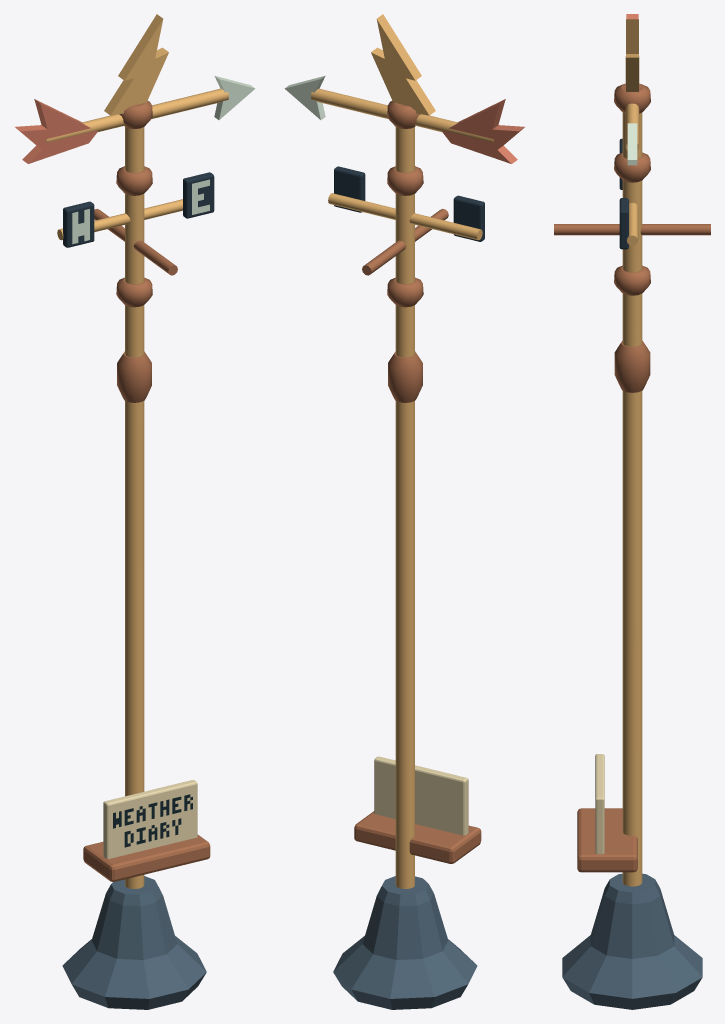
3 renders of one model, left to right at view 1: azimuth 30°, elevation 25°; view 2: azimuth 150°, elevation 25°; view 3: azimuth 270°, elevation 25°, orthographic.
Visible parts, largest first — view 1: PR076 enamel and hardware; view 2: PR076 enamel and hardware; view 3: PR076 enamel and hardware.
Part boxes in pixels (x1=…): PR076 enamel and hardware: x1=15, y1=14, x2=255, y2=1009; PR076 enamel and hardware: x1=284, y1=14, x2=524, y2=1009; PR076 enamel and hardware: x1=554, y1=14, x2=710, y2=1009.
Bounding box in the file's own units: 0.6 × 2.34 × 0.3406.
